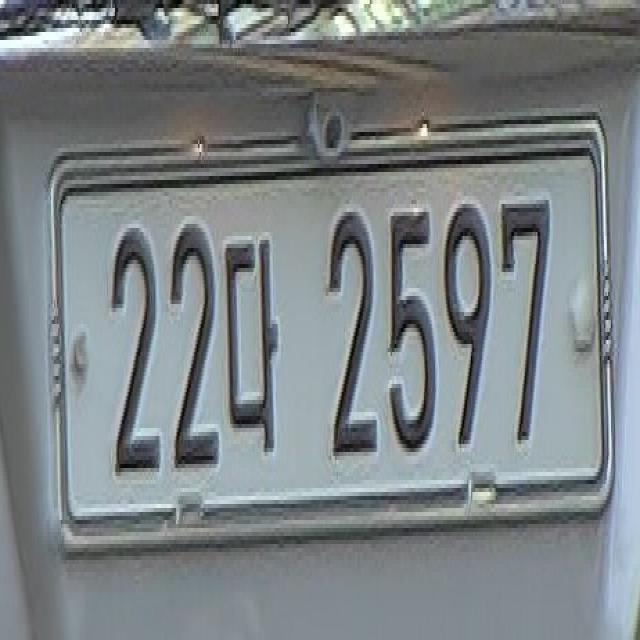2: (319, 193, 386, 474), (170, 204, 230, 491), (103, 214, 163, 480)
5: (380, 177, 445, 466)
7: (499, 177, 564, 465)
9: (441, 185, 495, 471)
da: (223, 198, 292, 486)
license_plate: (65, 150, 604, 515)
